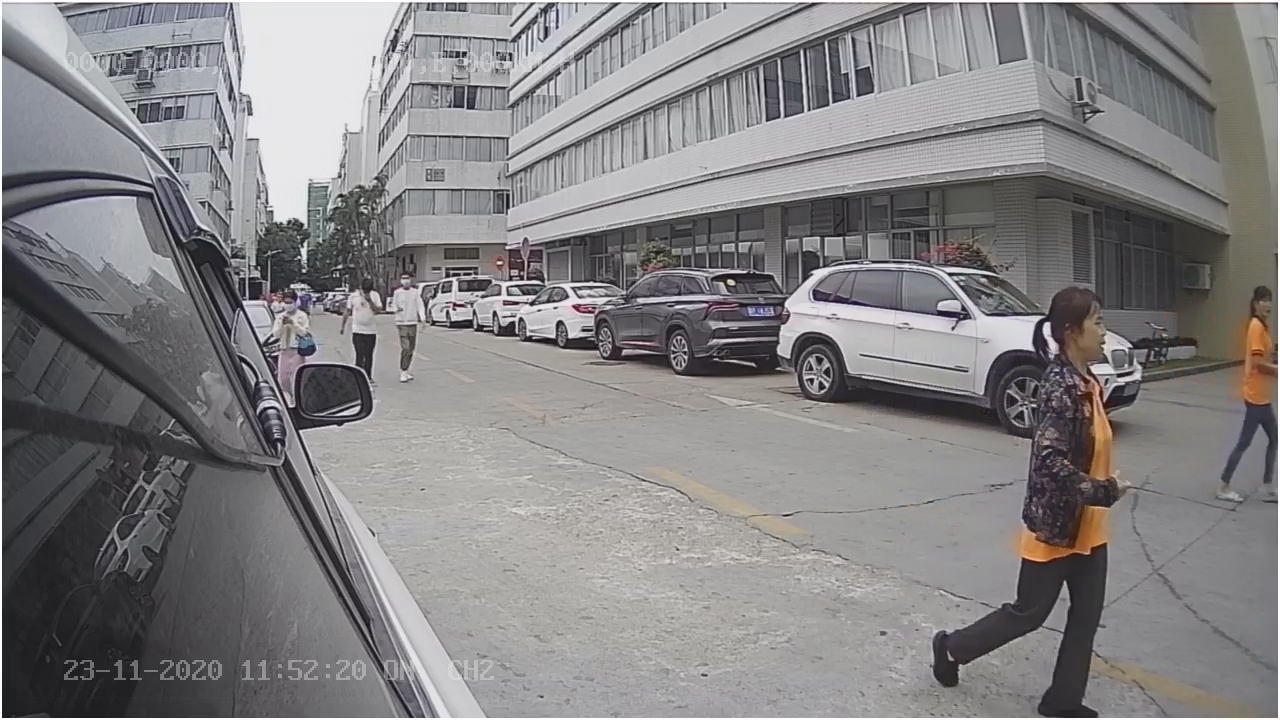person: (990, 280, 1119, 710)
